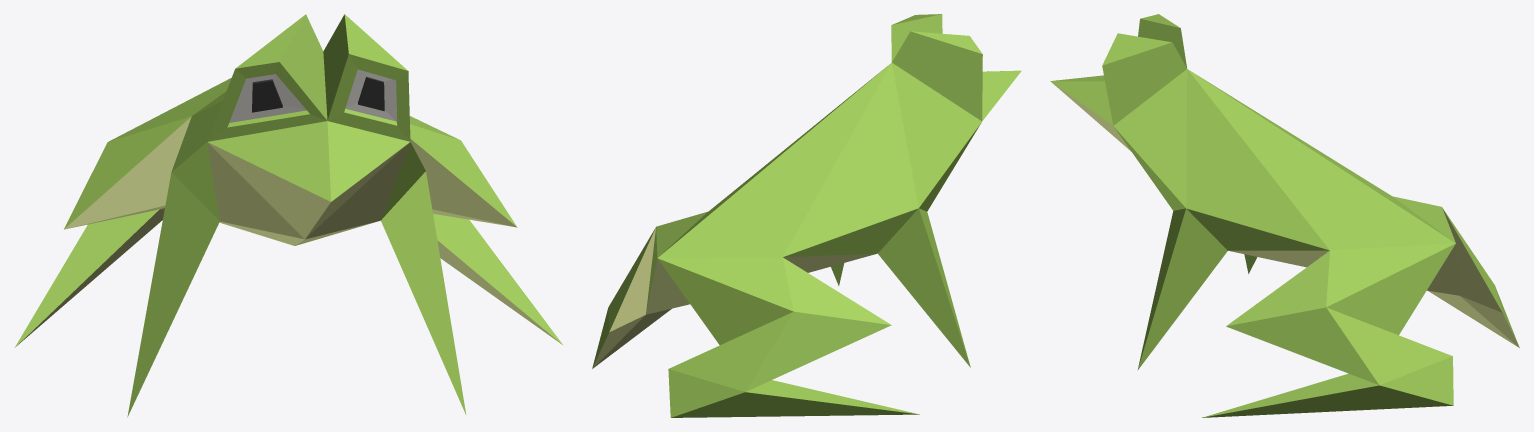
The model's file is frog.fbx.
3 views of the same model, side by side, from view 1: azimuth 30°, elevation 25°; view 2: azimuth 150°, elevation 25°; view 3: azimuth 270°, elevation 25° (orthographic). The views are drawn at different scales.
Visible parts, largest first — view 1: rana60.001; view 2: rana60.001; view 3: rana60.001.
Part boxes in pixels (x1,y1,x2,y2): rana60.001: (14, 14, 563, 417); rana60.001: (592, 14, 1021, 417); rana60.001: (1050, 14, 1519, 417).
Bounding box in the file's own units: 66.07 × 59.25 × 84.96.
